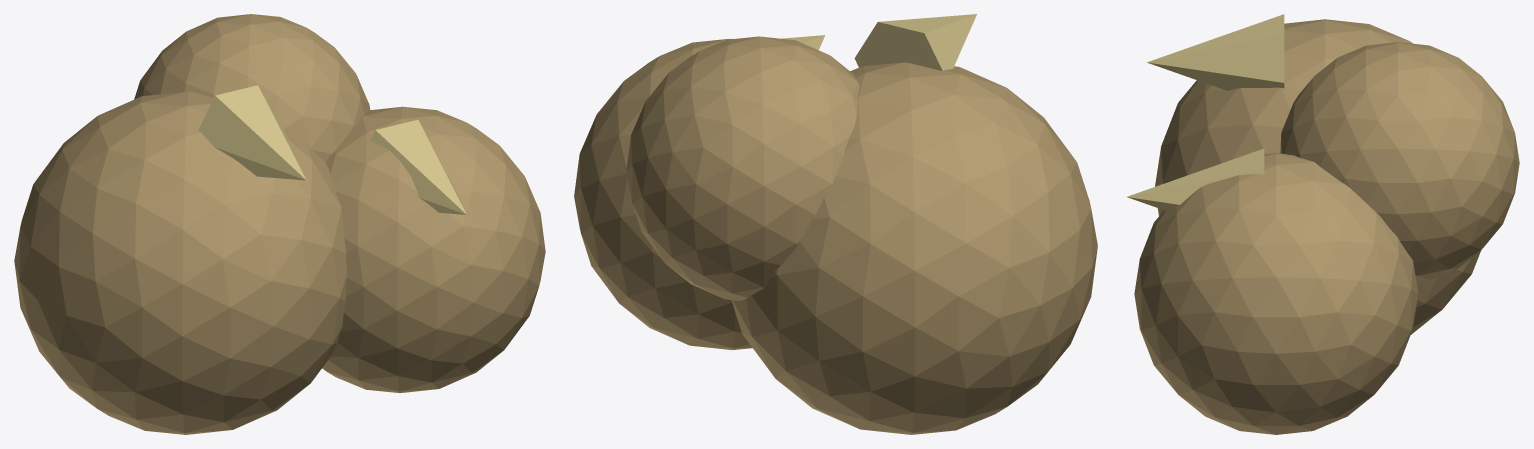
Rendered from gold_seam.glb.
The picture shows the model from 3 angles, left to right: view 1: azimuth 30°, elevation 25°; view 2: azimuth 150°, elevation 25°; view 3: azimuth 270°, elevation 25°; orthographic projection. The views are drawn at different scales.
Visible parts, largest first — view 1: gold_seam_00, gold_seam_01, gold_seam_02, gold_seam_03, gold_seam_04; view 2: gold_seam_00, gold_seam_02, gold_seam_01, gold_seam_03; view 3: gold_seam_01, gold_seam_02, gold_seam_00, gold_seam_03, gold_seam_04.
Boxes of the visible parts, x1=… form: gold_seam_00: x1=14, y1=91, x2=346, y2=434; gold_seam_01: x1=322, y1=106, x2=545, y2=393; gold_seam_02: x1=134, y1=14, x2=370, y2=162; gold_seam_03: x1=198, y1=85, x2=306, y2=180; gold_seam_04: x1=370, y1=119, x2=466, y2=214; gold_seam_00: x1=731, y1=62, x2=1097, y2=434; gold_seam_02: x1=626, y1=36, x2=859, y2=300; gold_seam_01: x1=574, y1=38, x2=752, y2=350; gold_seam_03: x1=854, y1=14, x2=976, y2=71; gold_seam_01: x1=1134, y1=153, x2=1418, y2=434; gold_seam_02: x1=1280, y1=42, x2=1519, y2=281; gold_seam_00: x1=1155, y1=19, x2=1481, y2=334; gold_seam_03: x1=1147, y1=14, x2=1284, y2=90; gold_seam_04: x1=1127, y1=148, x2=1264, y2=211.
Bounding box in the file's own units: 1.3 × 0.92 × 0.97.
